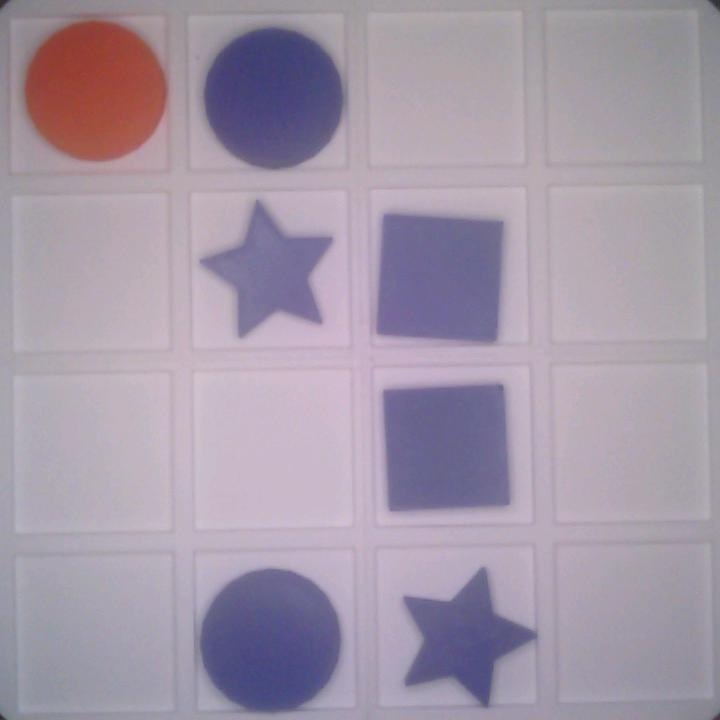Blue circle: (200, 569, 344, 708), (205, 25, 341, 167)
Blue square: (374, 206, 503, 346), (381, 381, 507, 512)
Blue star: (396, 557, 535, 705), (198, 195, 335, 333)
Orange circle: (21, 20, 167, 167)
